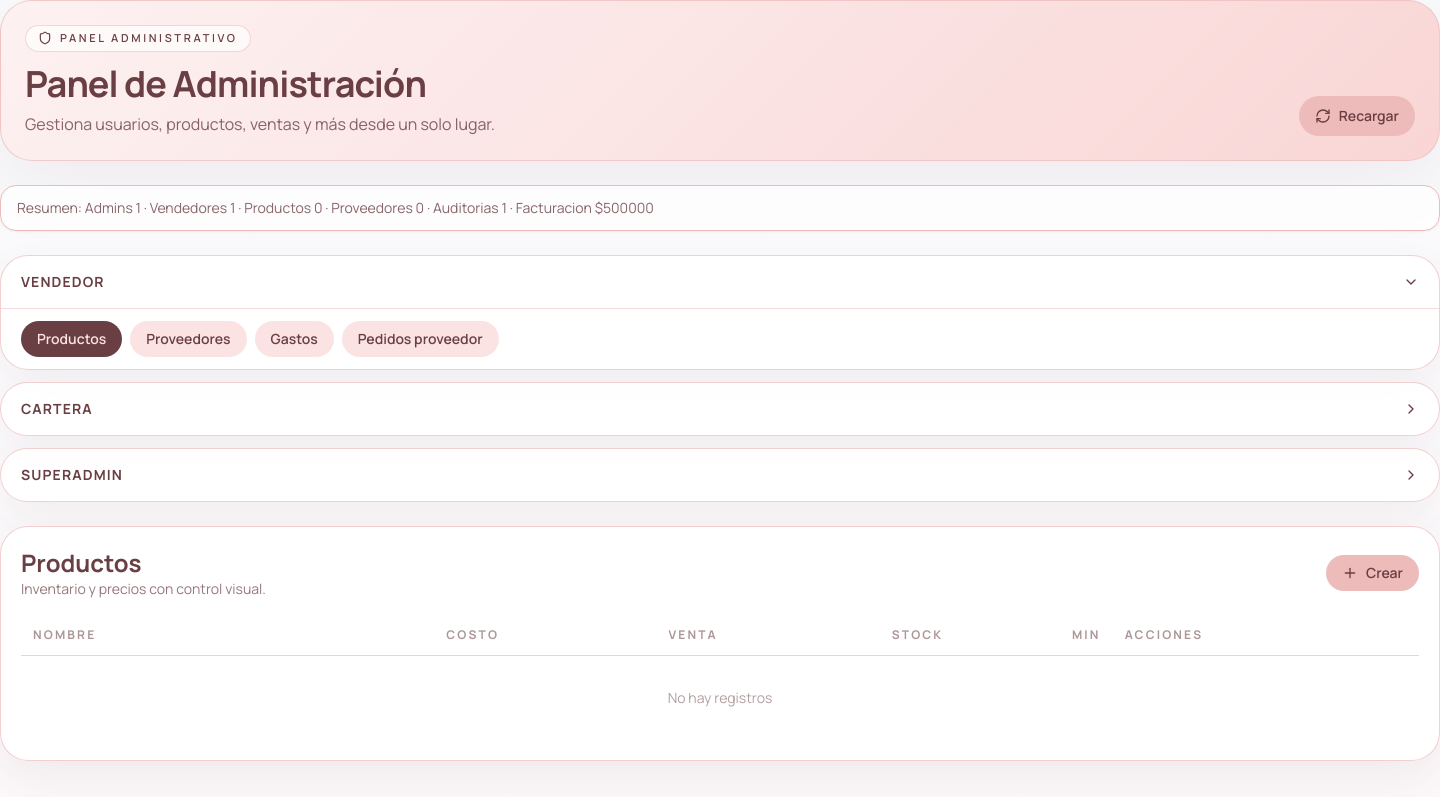
Test: Admin page › renders informes tab content
This screenshot has width=1440, height=797.
expect the text "SuperAdmin" is shown: met, box [21,464,123,484]
Click the button "SuperAdmin": (72, 474) [1,448,1439,500]
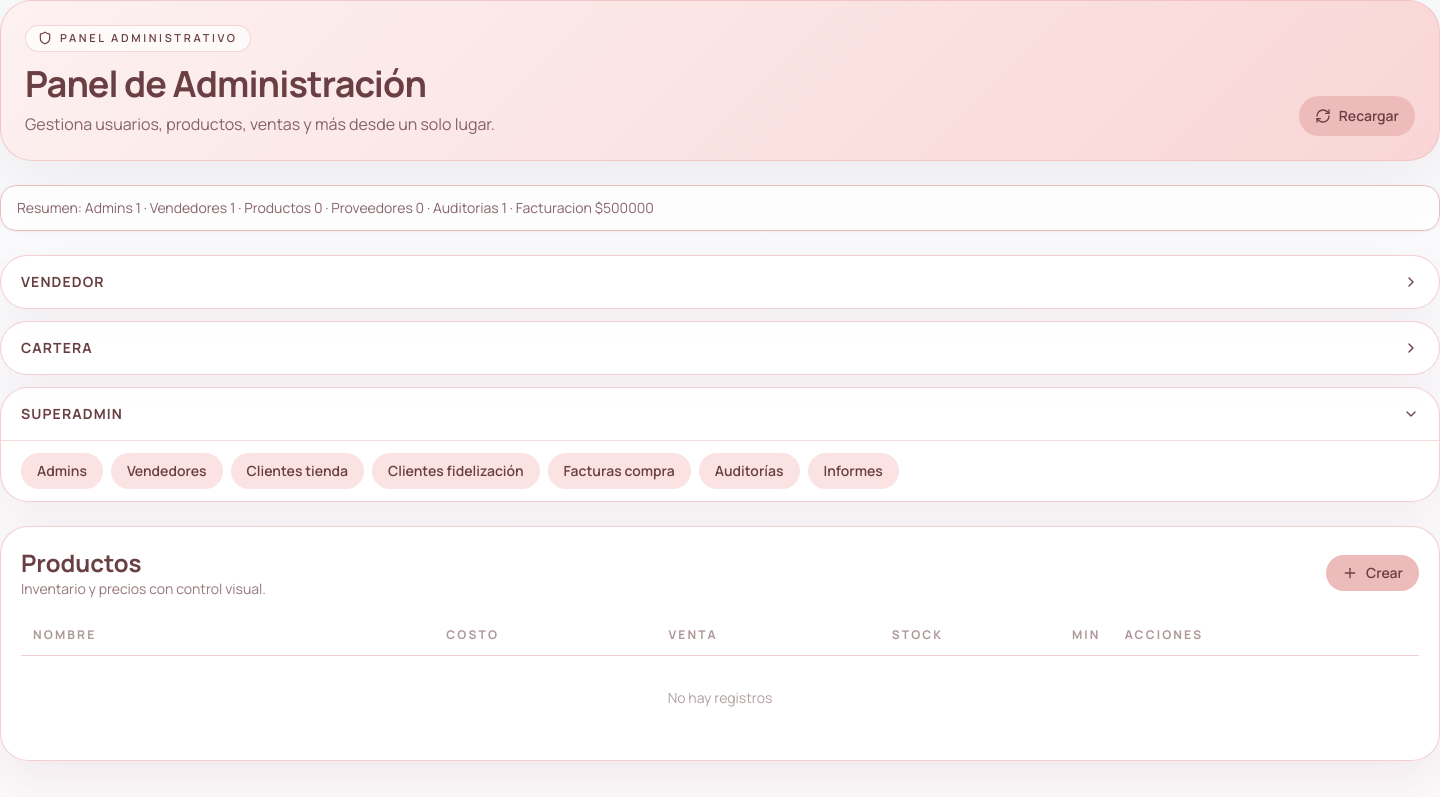
expect the button "Informes" is shown: met
Click the button "Informes": (853, 470) [808,452,899,488]
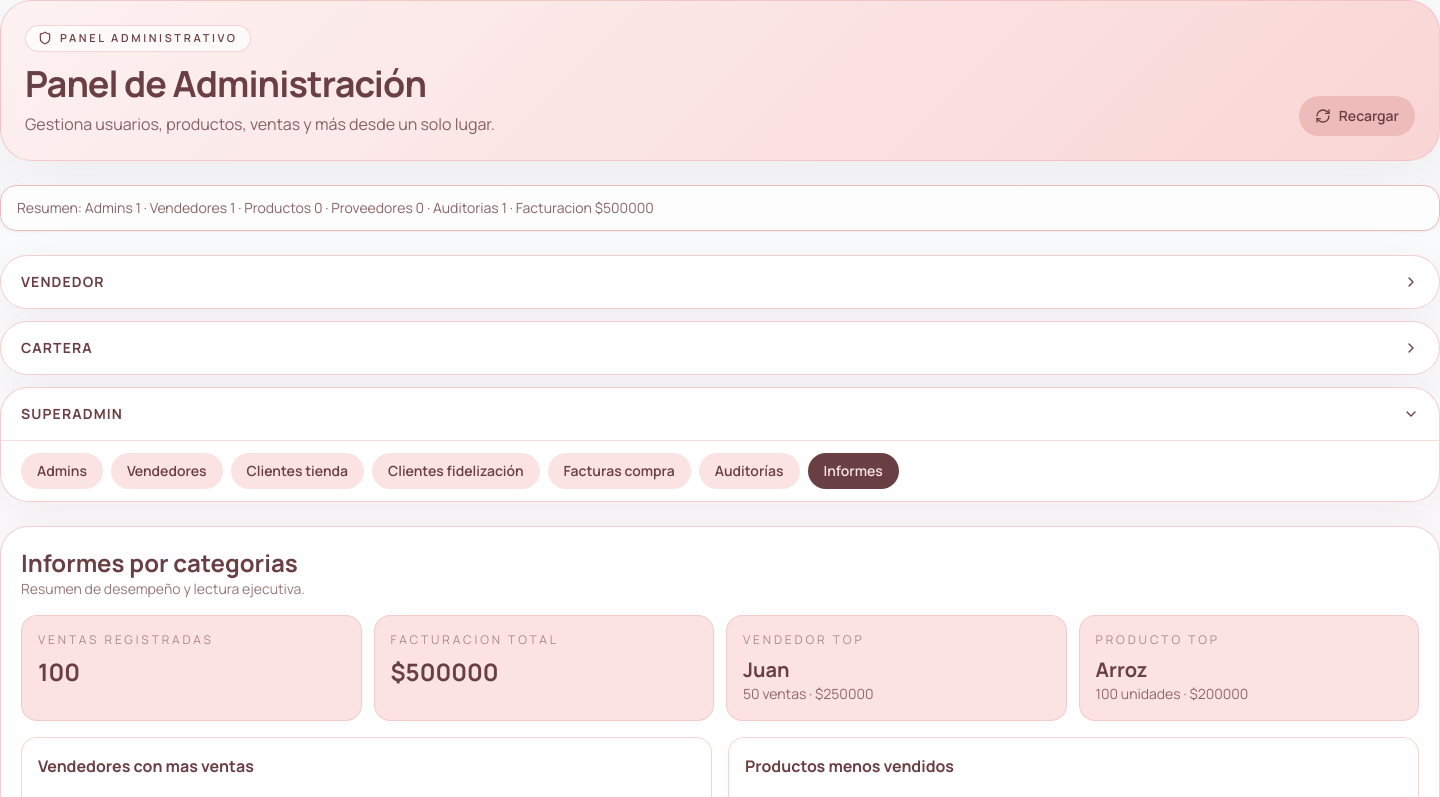
expect the text "Ventas registradas" is shown: met, box [38,630,214,648]
expect the text "Facturacion total" is shown: met, box [390,630,559,648]
expect the text "100" is shown: met, box [38,654,80,688]
